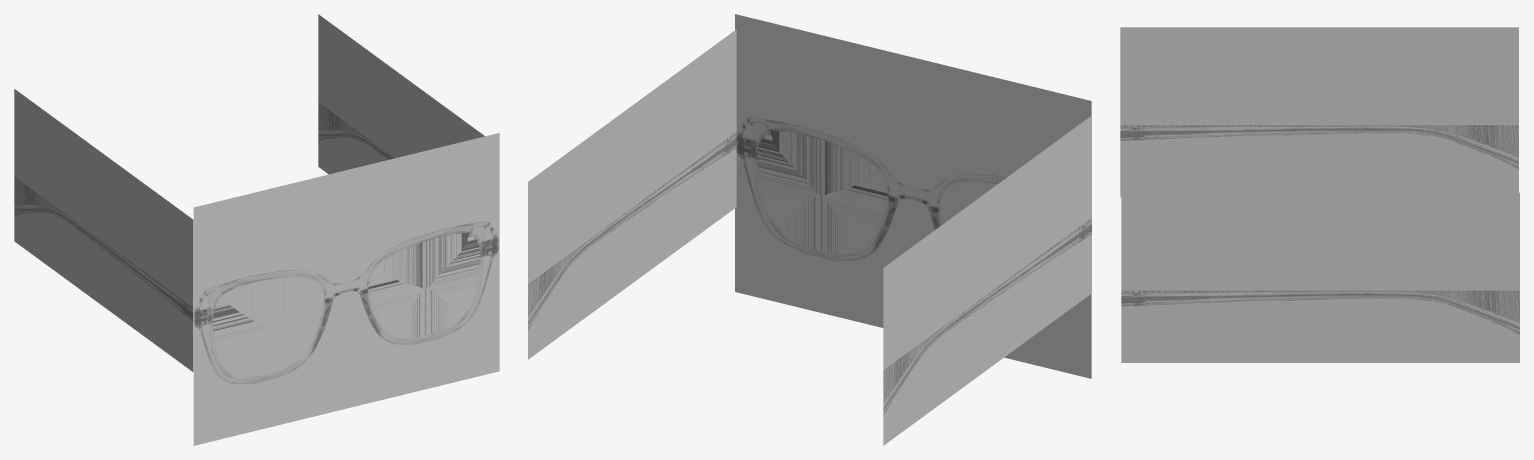
Rendered from broadway-flex-20.glb.
3 views of the same model, side by side, from view 1: azimuth 30°, elevation 25°; view 2: azimuth 150°, elevation 25°; view 3: azimuth 270°, elevation 25° (orthographic). The views are drawn at different scales.
Parts seen in each view (by area): view 1: Front, Right, Left; view 2: Front, Left, Right; view 3: Left, Right.
Part boxes in pixels (box(x1,y1,x2,y2)): Front: box(193, 133, 499, 445); Right: box(14, 89, 193, 371); Left: box(318, 14, 484, 174); Front: box(735, 14, 1091, 378); Left: box(528, 29, 736, 359); Right: box(883, 115, 1091, 445); Left: box(1121, 192, 1519, 362); Right: box(1120, 27, 1518, 197).
Bounding box in the file's own units: 147 × 109 × 149.
4 materials, 4 textured.
